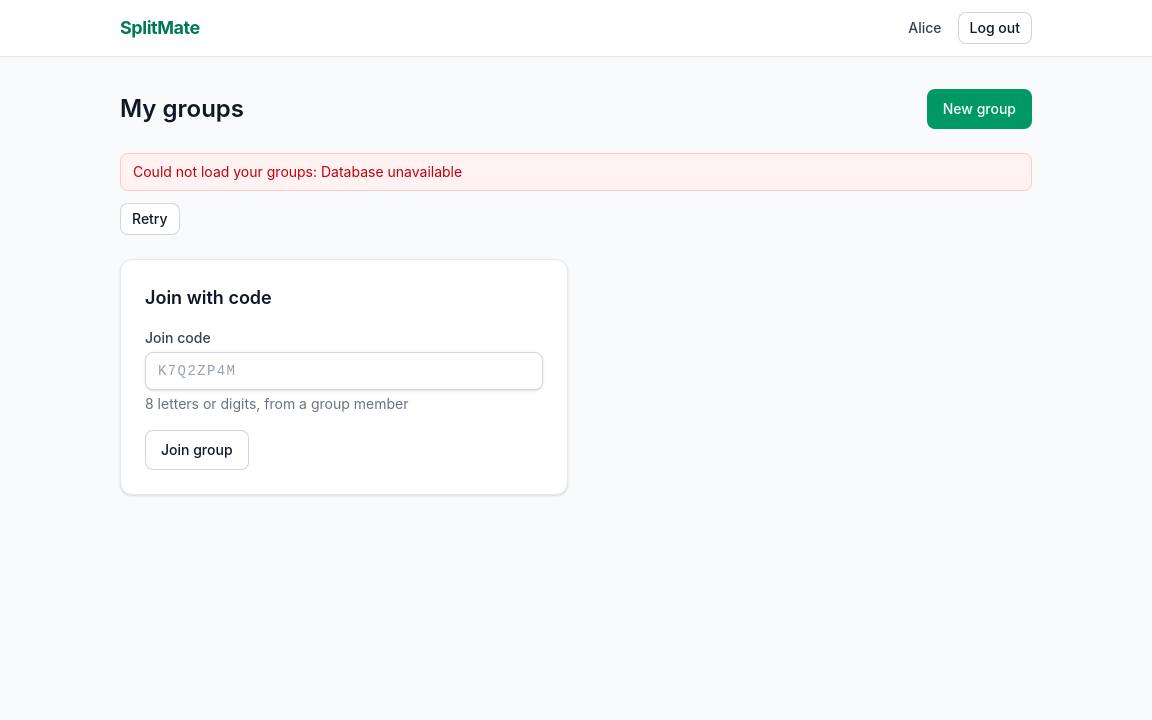
Test case: My groups list › shows an error with Retry when loading fails, and recovers
The width and height of the screenshot is (1152, 720).
Expected: the message shows "Database unavailable", [321,163,462,180]
What coordinates should you click on to do the following:
click the button "Retry"
I would click on:
 (150, 219)
Its box is [120,203,180,235].
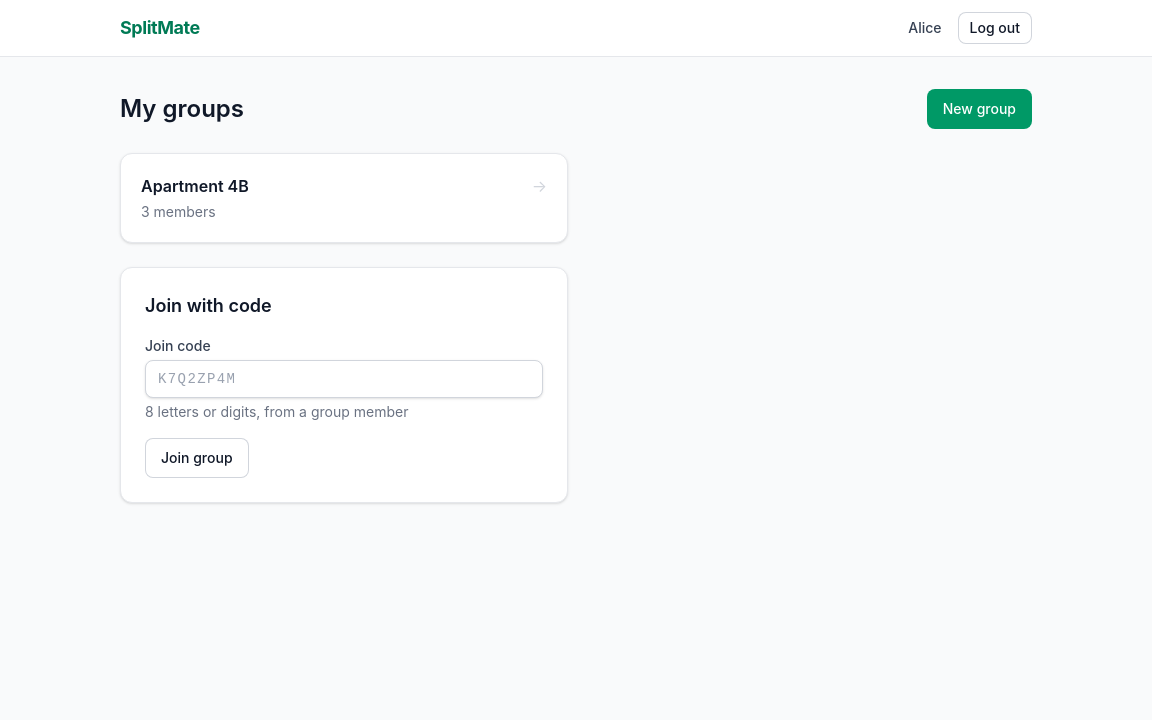
Expected: the link "Apartment 4B 3 members →" is shown, [120,153,568,243]
Expected: the message "Could not load your groups: Database unavailable" is gone
